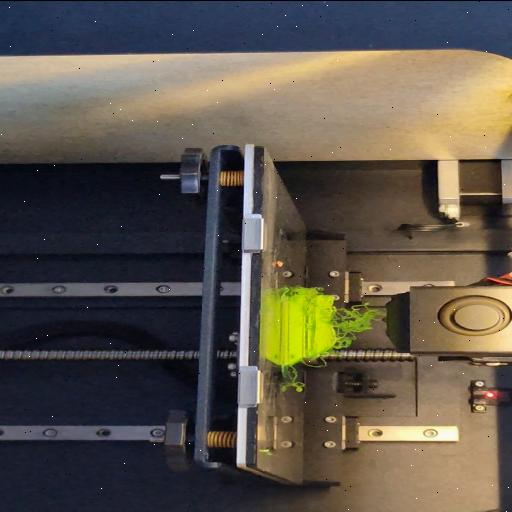spaghetti: (330, 292, 388, 348), (288, 362, 306, 392), (305, 356, 331, 368), (282, 286, 292, 296)
